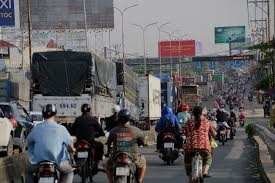Bien-so: (103, 165, 119, 176), (23, 170, 39, 177), (66, 147, 77, 156), (156, 143, 166, 151)
